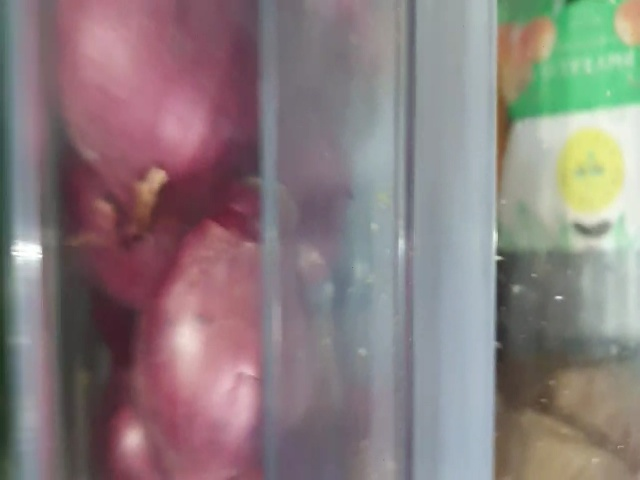red_onion: (39, 1, 262, 216), (135, 177, 266, 479)
